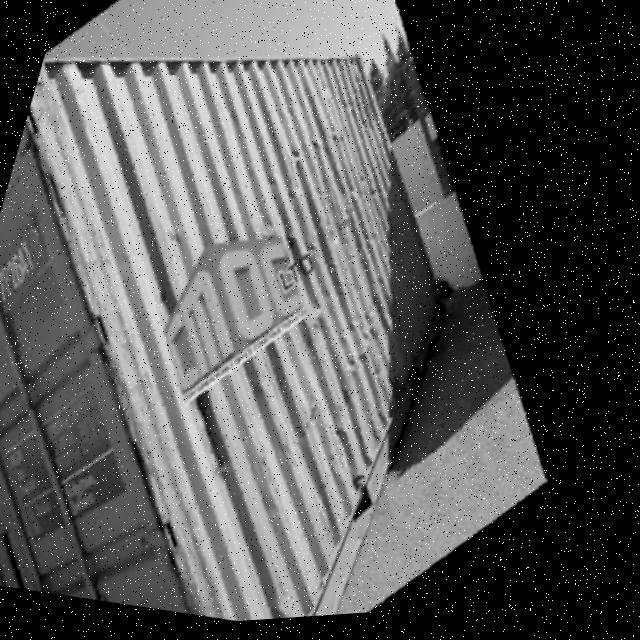rust: (22, 138, 126, 273), (334, 298, 399, 378), (322, 413, 378, 483), (281, 222, 340, 277), (354, 217, 393, 258)
